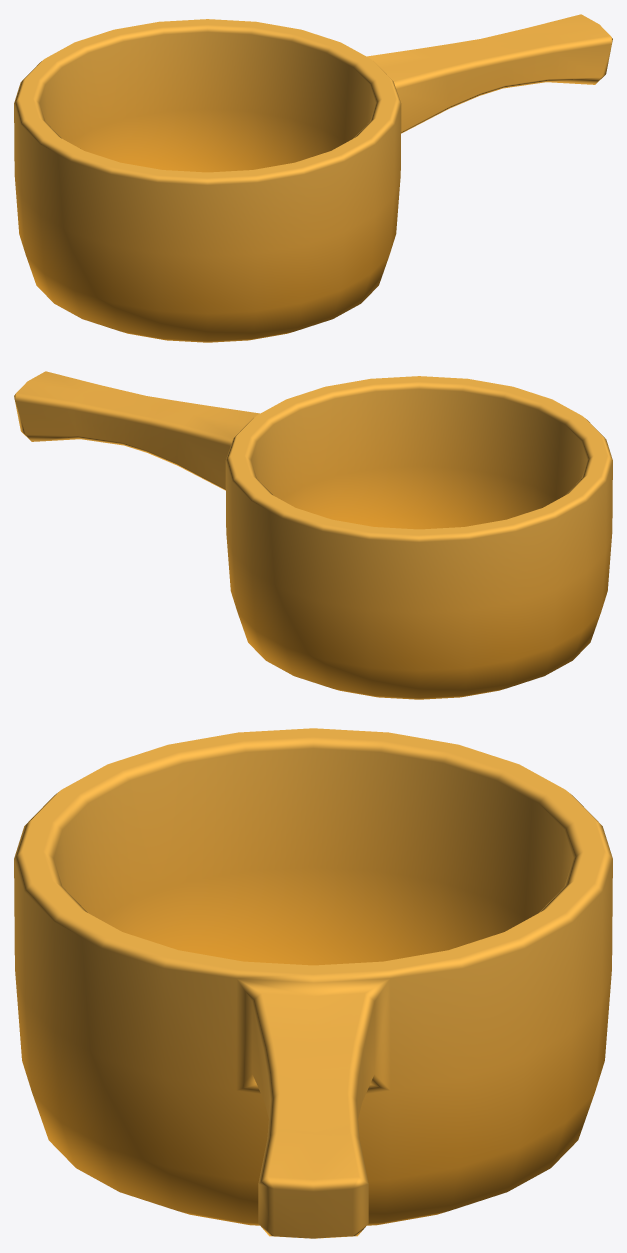
The model's file is Pot.fbx.
3 renders of one model, top to bottom at view 1: azimuth 30°, elevation 25°; view 2: azimuth 150°, elevation 25°; view 3: azimuth 270°, elevation 25°, orthographic. The views are drawn at different scales.
Visible parts, largest first — view 1: Pot; view 2: Pot; view 3: Pot.
Boxes of the visible parts, x1=… form: Pot: x1=14, y1=14, x2=612, y2=342; Pot: x1=14, y1=371, x2=612, y2=699; Pot: x1=14, y1=728, x2=612, y2=1238.
Size of the model in its own units: 159 by 49.32 by 94.59.
